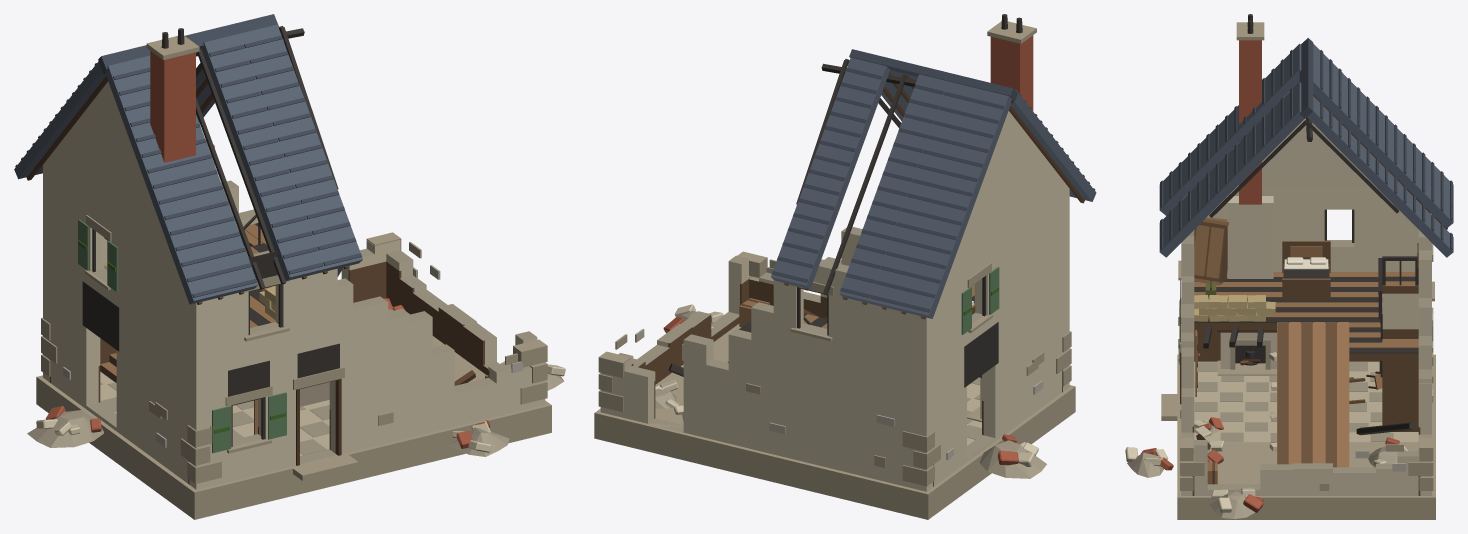
Rendered from house_ruined.glb.
The picture shows the model from 3 angles, left to right: view 1: azimuth 30°, elevation 25°; view 2: azimuth 150°, elevation 25°; view 3: azimuth 270°, elevation 25°; orthographic projection. The views are drawn at different scales.
Visible parts, largest first — view 1: LOD0; view 2: LOD0; view 3: LOD0.
Boxes of the visible parts, x1=… form: LOD0: x1=14, y1=14, x2=565, y2=519; LOD0: x1=594, y1=14, x2=1096, y2=519; LOD0: x1=1125, y1=14, x2=1453, y2=519.
Size of what is drawn, in the model's own units: 13.2 by 12.32 by 9.95.
Materials: 1 (1 with a texture image).
